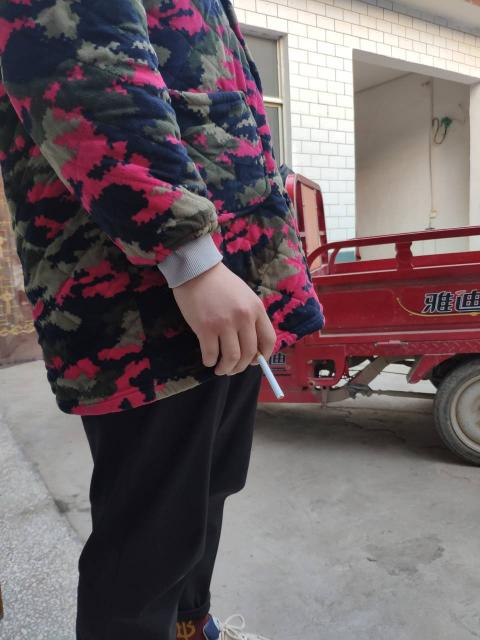Cigarette: (246, 332, 294, 406)
